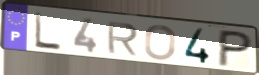4: (183, 26, 213, 67), (71, 16, 99, 55)
L: (33, 11, 63, 52)
O: (142, 24, 177, 62)
P: (215, 29, 255, 69)
R: (106, 21, 141, 58)
